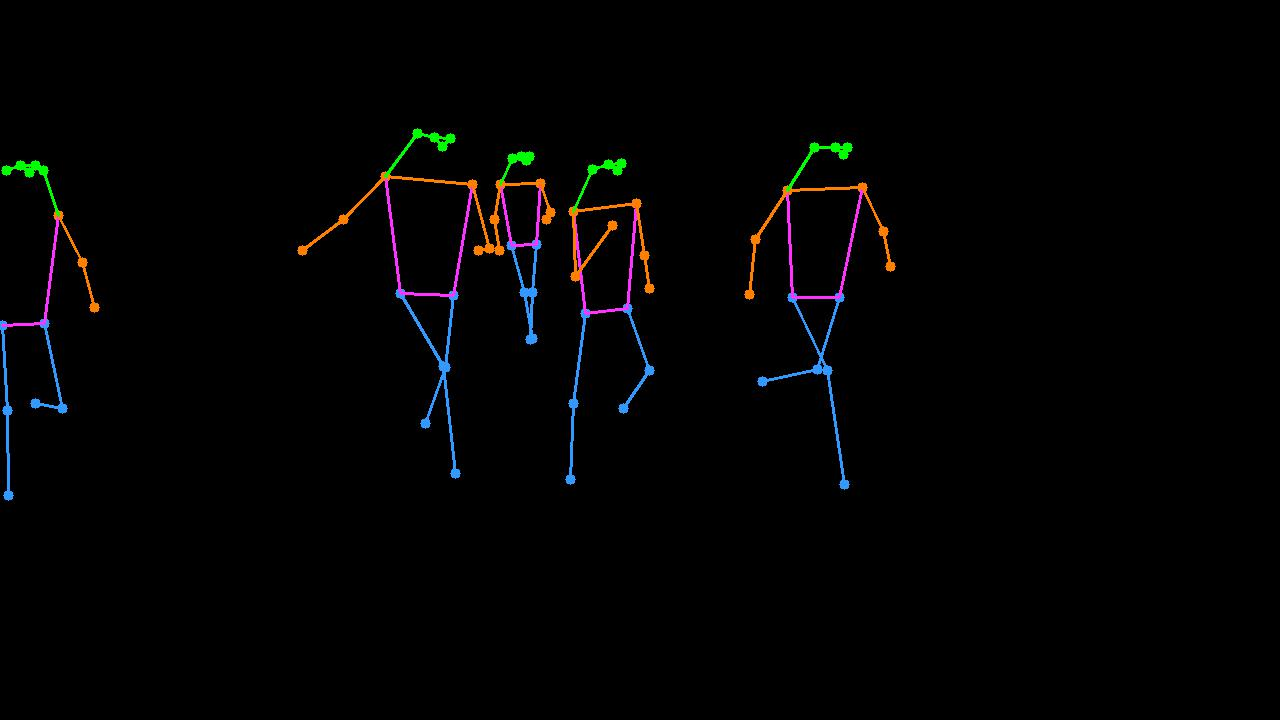normal: (742, 109, 913, 512), (484, 130, 668, 504), (341, 94, 486, 505), (1, 143, 115, 520)
